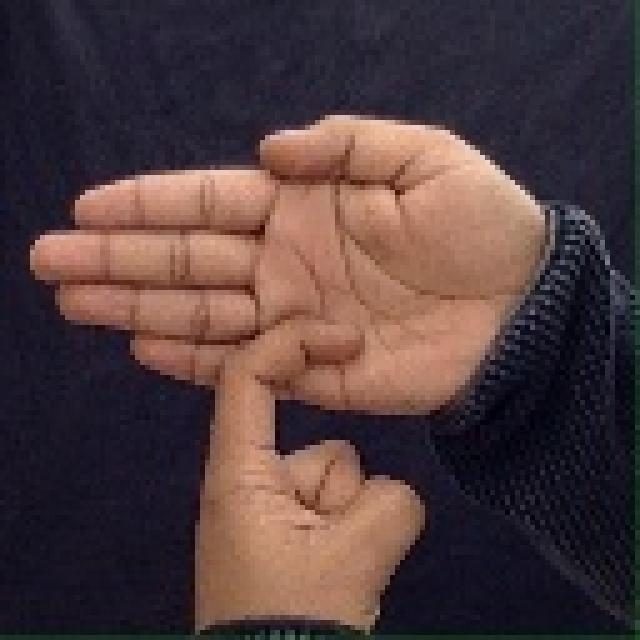Q: (11, 51, 626, 626)
